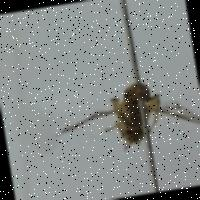Oriental-fruit-fly: (43, 67, 200, 170)
